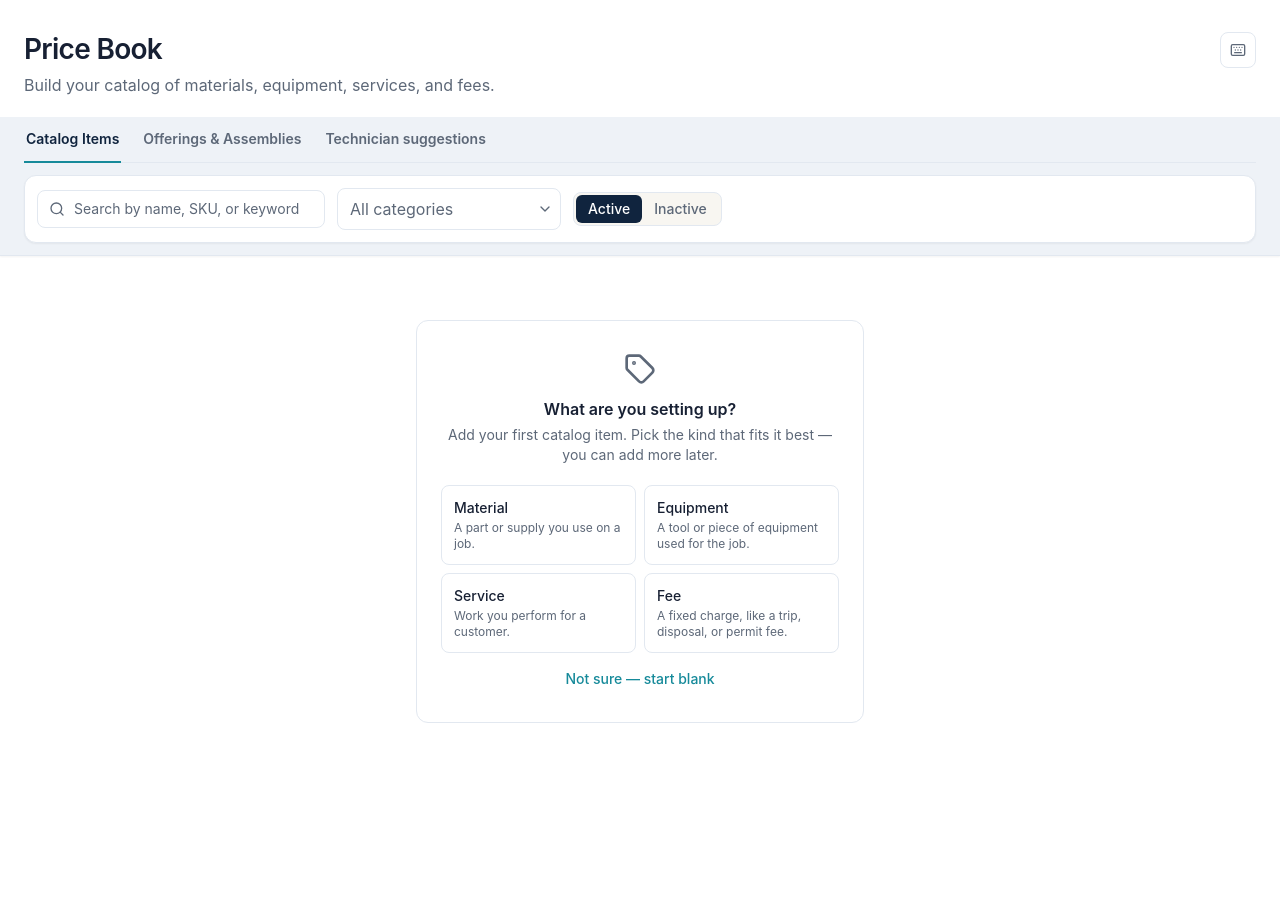
Test: PriceBook — Offerings & Assemblies tab › an assembly with no eligibility carries a Needs review badge in the list
The width and height of the screenshot is (1280, 900).
What coordinates should you click on to do the following:
click the tab "Offerings & Assemblies"
I would click on:
 (222, 140)
Its box is [141,117,303,163].
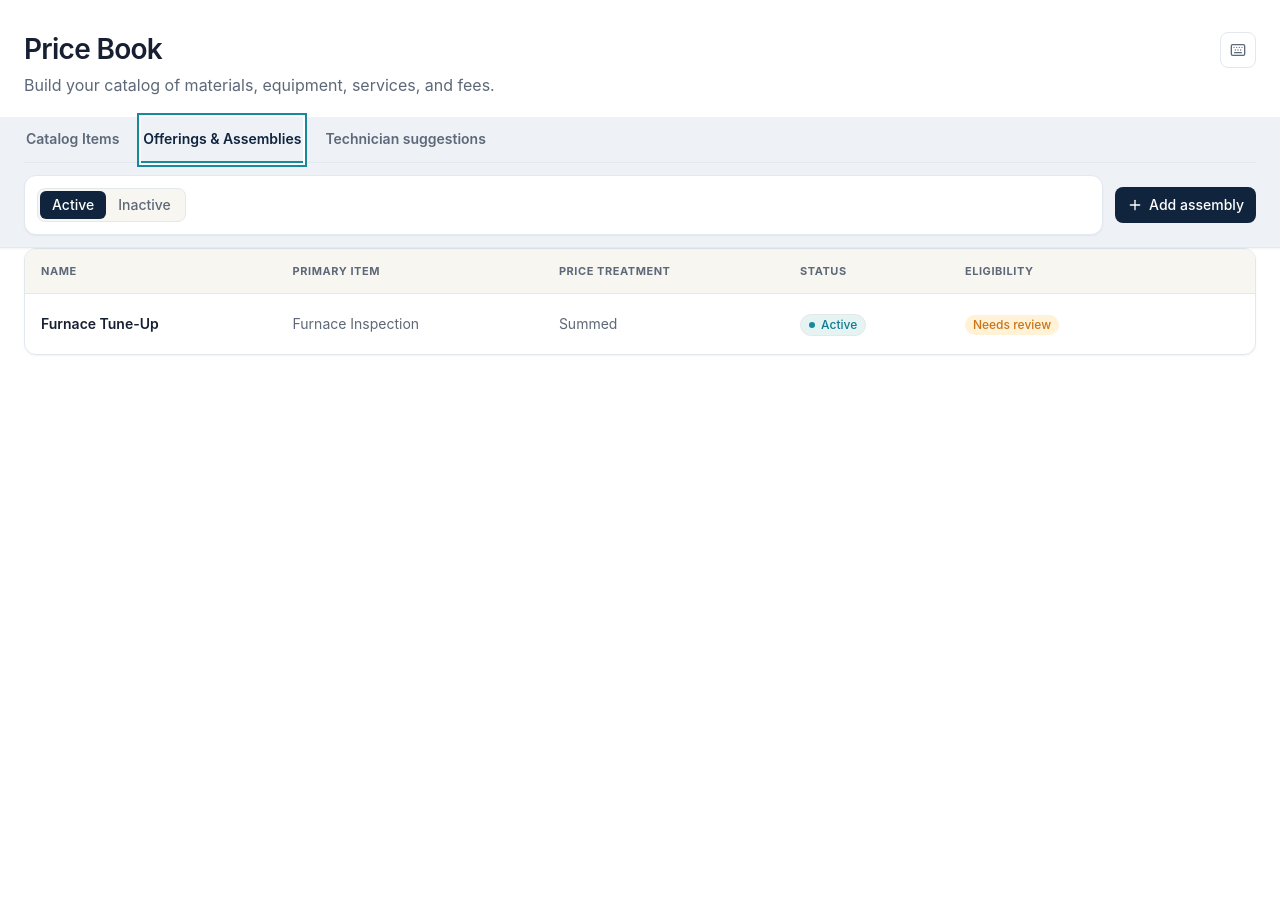
Expected: the text "Needs review" is shown, [965,314,1059,334]
